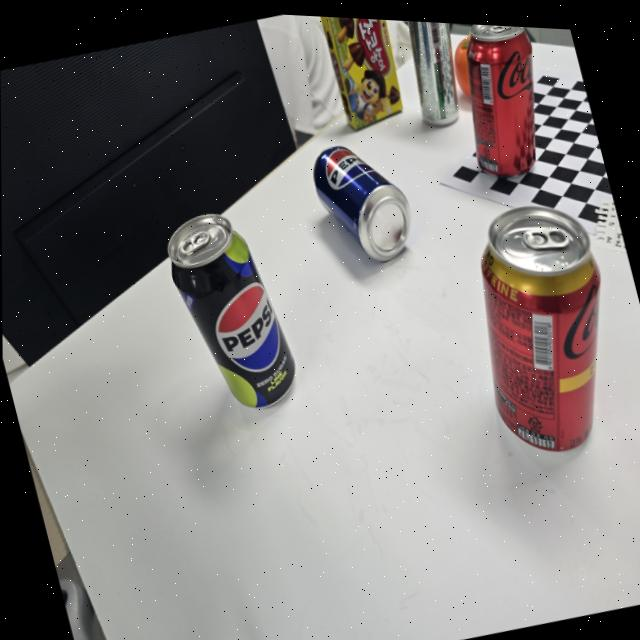can_coke_decaf: (478, 207, 602, 454)
can_coke_zero: (465, 25, 535, 177)
can_pepsi: (313, 142, 410, 261)
can_pepsi_zero: (168, 213, 295, 407)
